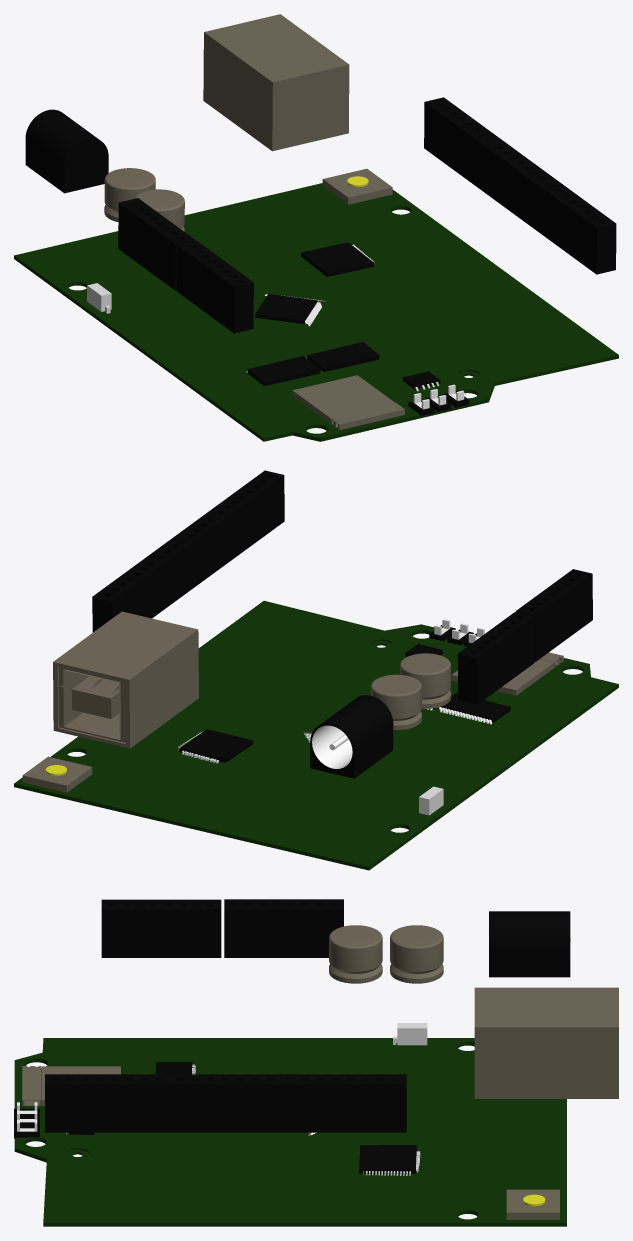
Rendered from ARDUINOExploded.glb.
The picture shows the model from 3 angles, top to bottom: view 1: azimuth 30°, elevation 25°; view 2: azimuth 150°, elevation 25°; view 3: azimuth 270°, elevation 25°; orthographic projection. The views are drawn at different scales.
Visible parts, largest first — view 1: Cube, Cube.001, Cube.113, Cylinder, Cube.004, Cube.003, Cube.117, Cylinder.003, Cube.040, Cube.114, Cube.005, Cube.075 (+2 smaller); view 2: Cube, Cube.001, Cube.113, Cylinder, Cube.003, Cube.004, Cylinder.003, Cylinder.002, Cube.114, Cube.040, Cube.117, Cube.075 (+1 smaller); view 3: Cube, Cube.113, Cube.001, Cube.004, Cube.003, Cylinder, Cylinder.003, Cylinder.002, Cube.040, Cube.117, Cube.114, Cube.115 (+1 smaller).
Boxes of the visible parts, x1,y1,x2,y2 form: Cube: [14, 183, 618, 441]; Cube.001: [203, 14, 349, 151]; Cube.113: [424, 97, 616, 274]; Cylinder: [25, 109, 108, 193]; Cube.004: [177, 241, 253, 333]; Cube.003: [118, 198, 195, 290]; Cube.117: [292, 375, 404, 430]; Cylinder.003: [104, 168, 155, 222]; Cube.040: [301, 242, 374, 276]; Cube.114: [322, 168, 392, 204]; Cube.005: [255, 294, 317, 323]; Cube.075: [247, 356, 320, 385]; Cube: [14, 600, 618, 870]; Cube.001: [53, 611, 198, 748]; Cube.113: [92, 470, 284, 632]; Cylinder: [310, 695, 393, 778]; Cube.003: [457, 612, 534, 704]; Cube.004: [516, 569, 592, 661]; Cylinder.003: [370, 674, 421, 729]; Cylinder.002: [400, 653, 451, 708]; Cube.114: [22, 756, 92, 792]; Cube.040: [179, 729, 253, 762]; Cube.117: [451, 652, 563, 695]; Cube.075: [438, 693, 510, 722]; Cube: [14, 1038, 566, 1226]; Cube.113: [45, 1074, 406, 1132]; Cube.001: [474, 987, 618, 1098]; Cube.004: [101, 899, 221, 957]; Cube.003: [224, 899, 343, 957]; Cylinder: [489, 911, 570, 977]; Cylinder.003: [390, 925, 443, 983]; Cylinder.002: [329, 925, 382, 983]; Cube.040: [359, 1145, 416, 1173]; Cube.117: [22, 1066, 120, 1105]; Cube.114: [506, 1189, 559, 1219]; Cube.115: [397, 1023, 427, 1045].
Bounding box in the file's own units: 16.12 × 6.89 × 22.57.
